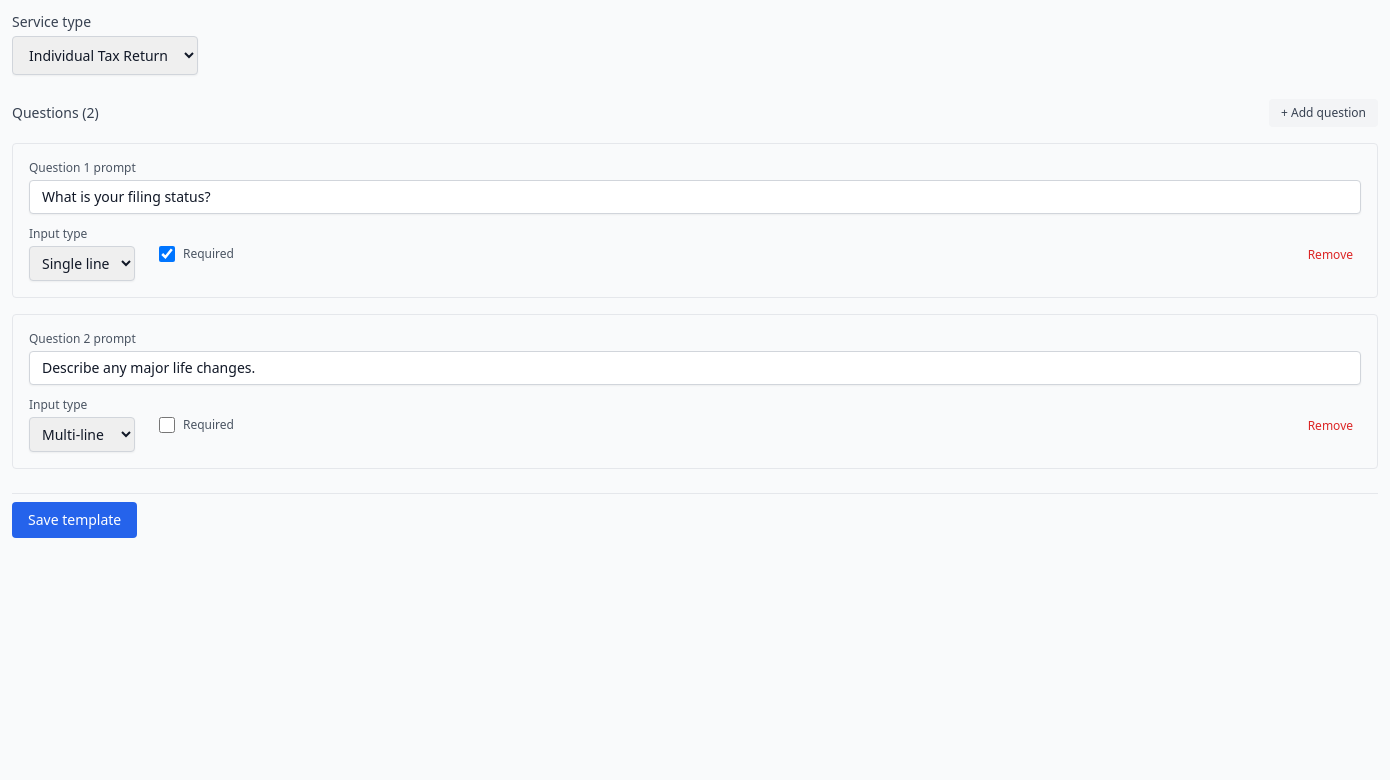
QuestionnaireTemplateEditor › [AC-ONBD-003-02] after service switch, renders the newly loaded service's questions
Select "Business Tax Return" in the dropdown labelled "Service type" at (105, 56), box 12,36 -> 198,75
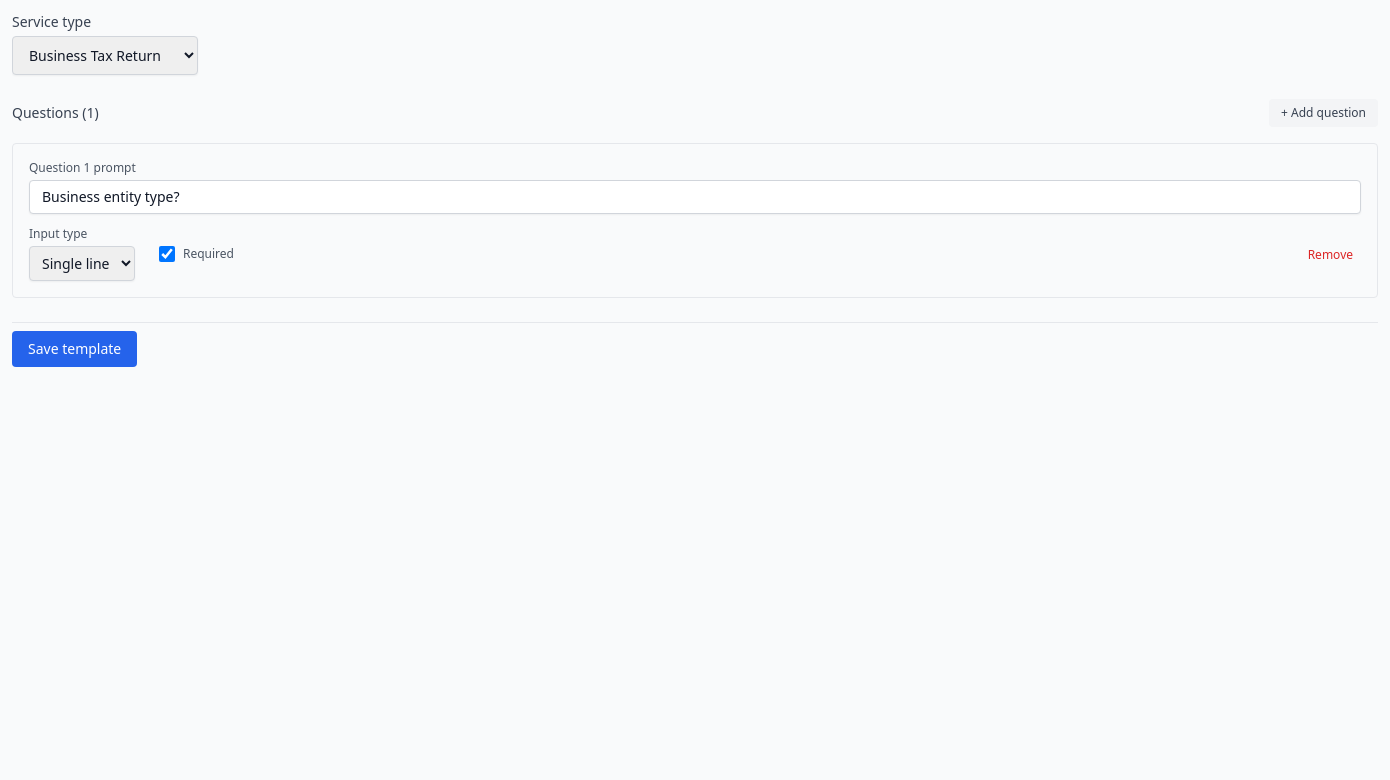
Expected: the field showing "What is your filing status?" is not shown
Now the field showing "Business entity type?" is shown, box 29,180 -> 1361,214
